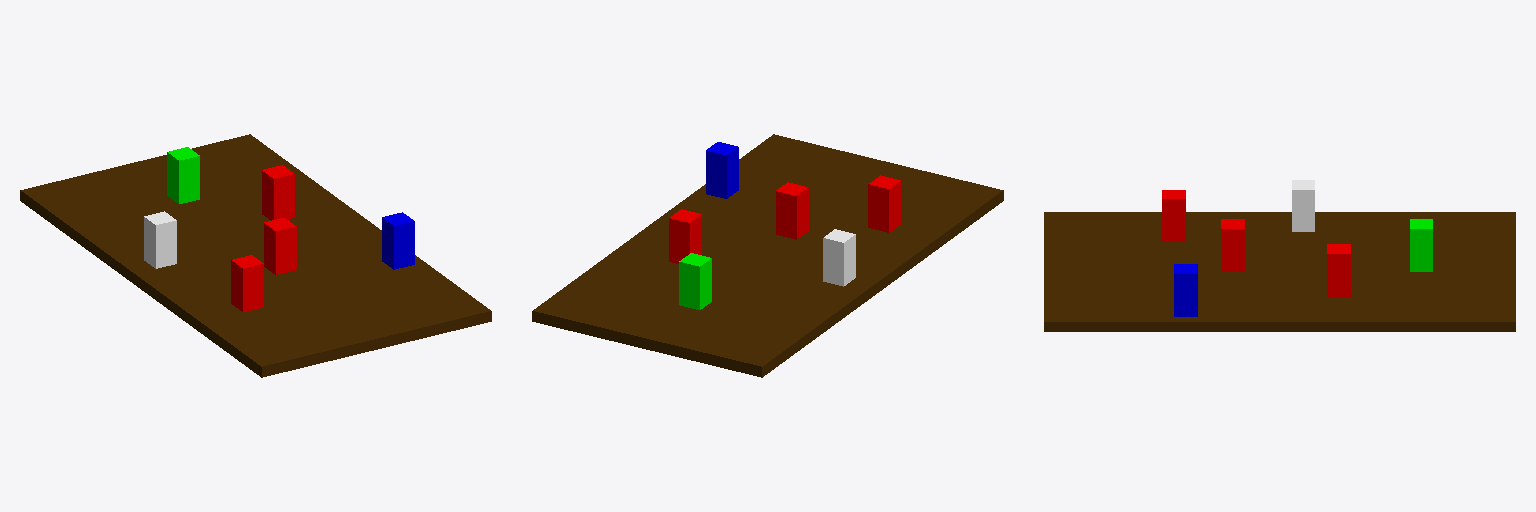
robot.urdf — workstation:
<?xml version="1.0"?>
<robot name="workstation">

   <material name="Brown">
     <color rgba="0.33 0.21 0.04 1"/>
   </material>

   <material name="White">
    <color rgba="1 1 1 1"/>
   </material>

   <material name="Grey">
    <color rgba=".3 .3 .3 1"/>
   </material>

    <material name="Red">
     <color rgba="1 0 0 1"/>
    </material>

    <material name="Green">
     <color rgba="0 1 0 1"/>
    </material>

    <material name="Blue">
     <color rgba="0 0 1 1"/>
    </material>

   <link name="ground">
   	<inertial>
   		<mass value=".5" />
   		<origin xyz="0 0 0" rpy="0 0 0"/>
		<inertia ixx="10"  ixy="0"  ixz="0" iyy="10" iyz="0" izz="10" />
   	</inertial>
  	<visual>
      <origin xyz="0 9 -0.25" rpy="0 0 0" />
      <geometry>
        <box size="11 20 0.5" />
      </geometry>
      <material name="Brown"/>
    </visual>
    <collision>
      <origin xyz="0 9 -0.25" rpy="0 0 0" />
      <geometry>
        <box size="11 20 0.5" />
      </geometry>
    </collision>
   </link>

   <link name="obs1">
   	<inertial>
   		<mass value=".5" />
   		<origin xyz="0 0 0" rpy="0 0 0"/>
		<inertia ixx="10"  ixy="0"  ixz="0" iyy="10" iyz="0" izz="10" />
   	</inertial>
  	<visual>
      <origin xyz="0 15 1" rpy="0 0 0" />
      <geometry>
        <box size="1 1 2" />
      </geometry>
      <material name="Green"/>
    </visual>
    <collision>
      <origin xyz="0 15 1" rpy="0 0 0" />
      <geometry>
        <box size="1 1 2" />
      </geometry>
      <material name="Green"/>
    </collision>
   </link>

   <link name="obs2">
   	<inertial>
   		<mass value=".5" />
   		<origin xyz="0 0 0" rpy="0 0 0"/>
		<inertia ixx="10"  ixy="0"  ixz="0" iyy="10" iyz="0" izz="10" />
   	</inertial>
  	<visual>
      <origin xyz="4.5 5 1" rpy="0 0 0" />
      <geometry>
        <box size="1 1 2" />
      </geometry>
      <material name="Blue"/>
    </visual>
    <collision>
      <origin xyz="4.5 5 1" rpy="0 0 0" />
      <geometry>
        <box size="1 1 2" />
      </geometry>
      <material name="Blue"/>
    </collision>
   </link>

   <link name="obs3">
   	<inertial>
   		<mass value=".5" />
   		<origin xyz="0 0 0" rpy="0 0 0"/>
		<inertia ixx="10"  ixy="0"  ixz="0" iyy="10" iyz="0" izz="10" />
   	</inertial>
  	<visual>
      <origin xyz="-3 4.5 1" rpy="0 0 0" />
      <geometry>
        <box size="1 1 2" />
      </geometry>
      <material name="Red"/>
    </visual>
    <collision>
      <origin xyz="-3 4.5 1" rpy="0 0 0" />
      <geometry>
        <box size="1 1 2" />
      </geometry>
      <material name="Red"/>
    </collision>
   </link>

   <link name="obs4">
   	<inertial>
   		<mass value=".5" />
   		<origin xyz="0 0 0" rpy="0 0 0"/>
		<inertia ixx="10"  ixy="0"  ixz="0" iyy="10" iyz="0" izz="10" />
   	</inertial>
  	<visual>
      <origin xyz="-4 10 1" rpy="0 0 0" />
      <geometry>
        <box size="1 1 2" />
      </geometry>
      <material name="White"/>
    </visual>
    <collision>
      <origin xyz="-4 10 1" rpy="0 0 0" />
      <geometry>
        <box size="1 1 2" />
      </geometry>
      <material name="White"/>
    </collision>
   </link>

   <link name="obs5">
   	<inertial>
   		<mass value=".5" />
   		<origin xyz="0 0 0" rpy="0 0 0"/>
		<inertia ixx="10"  ixy="0"  ixz="0" iyy="10" iyz="0" izz="10" />
   	</inertial>
  	<visual>
      <origin xyz="0 7 1" rpy="0 0 0" />
      <geometry>
        <box size="1 1 2" />
      </geometry>
      <material name="Red"/>
    </visual>
    <collision>
      <origin xyz="0 7 1" rpy="0 0 0" />
      <geometry>
        <box size="1 1 2" />
      </geometry>
      <material name="Red"/>
    </collision>
   </link>

   <link name="obs6">
   	<inertial>
   		<mass value=".5" />
   		<origin xyz="0 0 0" rpy="0 0 0"/>
		<inertia ixx="10"  ixy="0"  ixz="0" iyy="10" iyz="0" izz="10" />
   	</inertial>
  	<visual>
      <origin xyz="2.5 11.5 1" rpy="0 0 0" />
      <geometry>
        <box size="1 1 2" />
      </geometry>
      <material name="Red"/>
    </visual>
    <collision>
      <origin xyz="2.5 11.5 1" rpy="0 0 0" />
      <geometry>
        <box size="1 1 2" />
      </geometry>
      <material name="Red"/>
    </collision>
   </link>

		<joint name="obs1_to_ground" type="fixed">
			<parent link="ground"/>
			<child link="obs1"/>
			<origin xyz="0 0 0"/>
		</joint>

		<joint name="obs2_to_ground" type="fixed">
			<parent link="ground"/>
			<child link="obs2"/>
			<origin xyz="0 0 0"/>
		</joint>
			
		<joint name="obs3_to_ground" type="fixed">
			<parent link="ground"/>
			<child link="obs3"/>
			<origin xyz="0 0 0"/>
		</joint>

		<joint name="obs4_to_ground" type="fixed">
			<parent link="ground"/>
			<child link="obs4"/>
			<origin xyz="0 0 0"/>
		</joint>

		<joint name="obs5_to_ground" type="fixed">
			<parent link="ground"/>
			<child link="obs5"/>
			<origin xyz="0 0 0"/>
		</joint>

		<joint name="obs6_to_ground" type="fixed">
			<parent link="ground"/>
			<child link="obs6"/>
			<origin xyz="0 0 0"/>
		</joint>


</robot>

--- What the picture shows (computed from the rendered views, not written in the file) ---
3 views of the same robot in one strip: view 1: azimuth 30°, elevation 25°; view 2: azimuth 150°, elevation 25°; view 3: azimuth 270°, elevation 25° (orthographic).
Robot: workstation — 7 links, 6 joints (6 fixed); root link ground; default pose: all joints at 0.
Links seen in each view (by area): view 1: ground, obs1, obs2, obs3, obs4, obs5, obs6; view 2: ground, obs2, obs3, obs4, obs5, obs1, obs6; view 3: ground, obs2, obs5, obs6, obs3, obs1, obs4.
Link boxes in pixels (x1=…): ground: x1=20, y1=134, x2=491, y2=377; obs1: x1=167, y1=147, x2=199, y2=203; obs2: x1=382, y1=212, x2=414, y2=269; obs3: x1=231, y1=255, x2=263, y2=311; obs4: x1=144, y1=211, x2=176, y2=268; obs5: x1=264, y1=218, x2=296, y2=274; obs6: x1=262, y1=165, x2=294, y2=220; ground: x1=532, y1=134, x2=1003, y2=377; obs2: x1=706, y1=142, x2=738, y2=198; obs3: x1=868, y1=175, x2=900, y2=232; obs4: x1=823, y1=229, x2=855, y2=286; obs5: x1=776, y1=182, x2=808, y2=239; obs1: x1=679, y1=253, x2=711, y2=309; obs6: x1=669, y1=209, x2=701, y2=263; ground: x1=1044, y1=212, x2=1515, y2=331; obs2: x1=1174, y1=264, x2=1197, y2=316; obs5: x1=1221, y1=219, x2=1244, y2=271; obs6: x1=1327, y1=244, x2=1350, y2=296; obs3: x1=1162, y1=190, x2=1185, y2=241; obs1: x1=1410, y1=219, x2=1432, y2=271; obs4: x1=1292, y1=180, x2=1314, y2=231.
Size in the robot's own frame: 11 by 20 by 2.5 metres.
Geometry: primitives only (box / cylinder / sphere), no mesh files.
